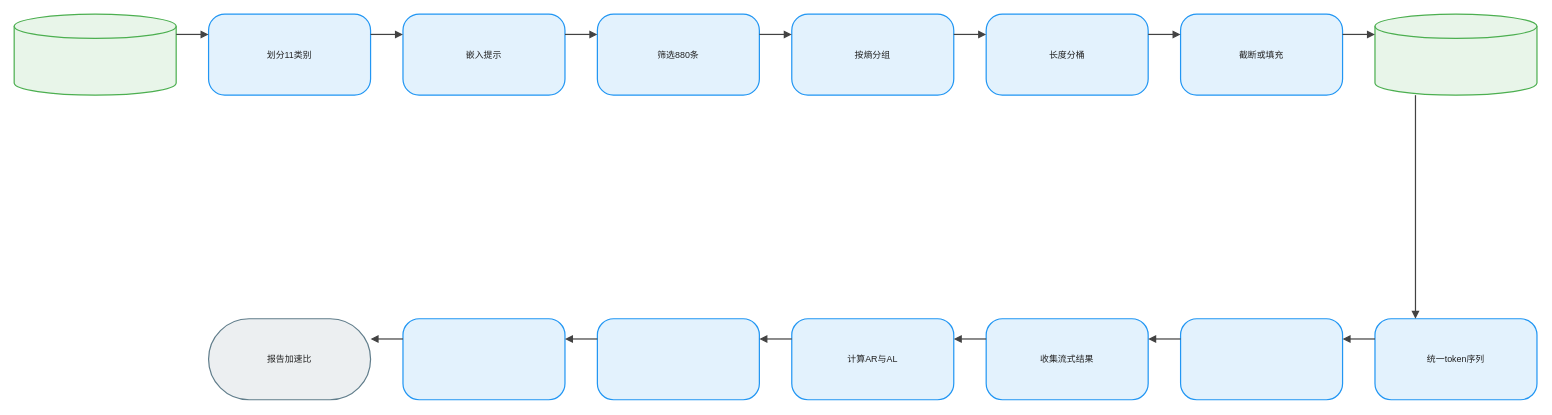
The diagram is 1552 pixels wide and 415 high, and some of its shapes have lost their labels. Each missing label, with the box of its shape:
封装双数据集: (1374, 13, 1537, 95)
扫描服务参数: (402, 318, 565, 400)
汇集18来源: (13, 13, 176, 95)
计算TPS: (596, 318, 760, 400)
运行生产引擎: (1180, 318, 1343, 400)
